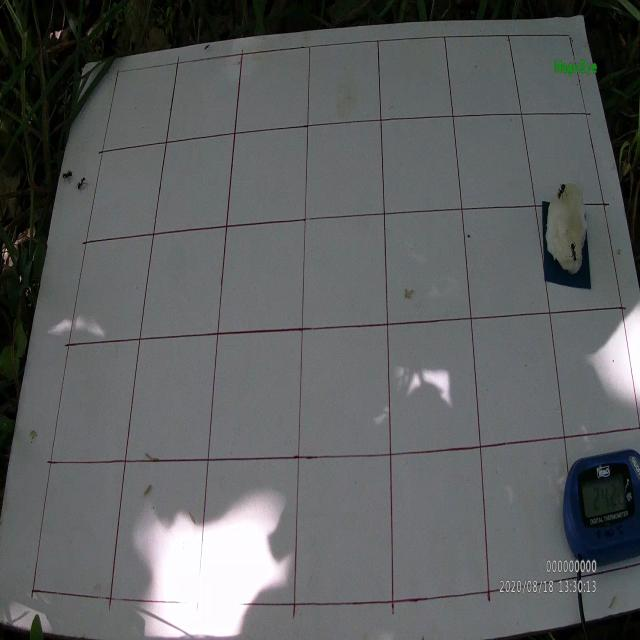Ant: (75, 169, 88, 192), (568, 237, 578, 263), (557, 181, 567, 201), (60, 169, 73, 184)
